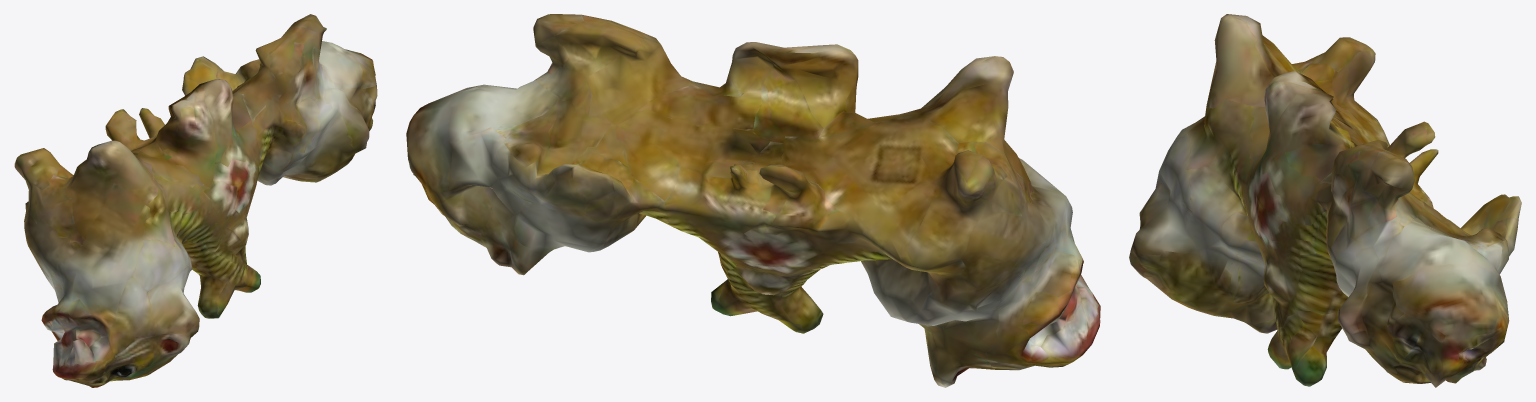
File: hall.glb
3 renders of one model, left to right at view 1: azimuth 30°, elevation 25°; view 2: azimuth 150°, elevation 25°; view 3: azimuth 270°, elevation 25°, orthographic. The views are drawn at different scales.
Size of the model in its own units: 1.19 by 0.7124 by 0.7914.
1 material, 1 textured.
